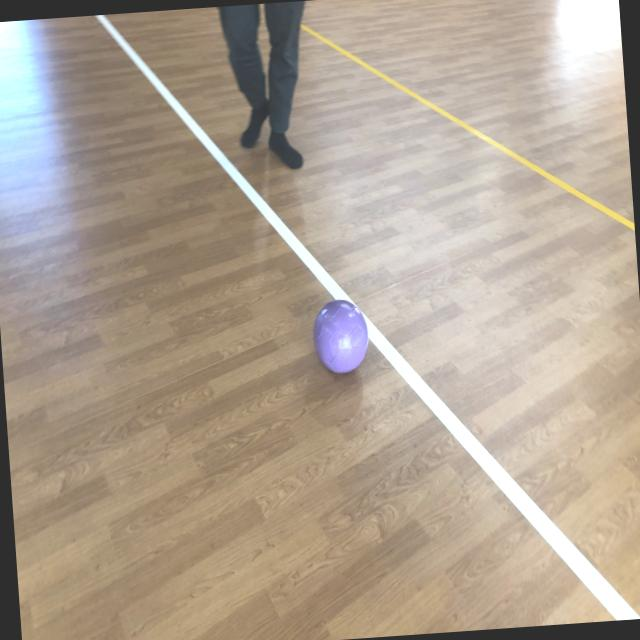purple_ball: (311, 298, 371, 374)
